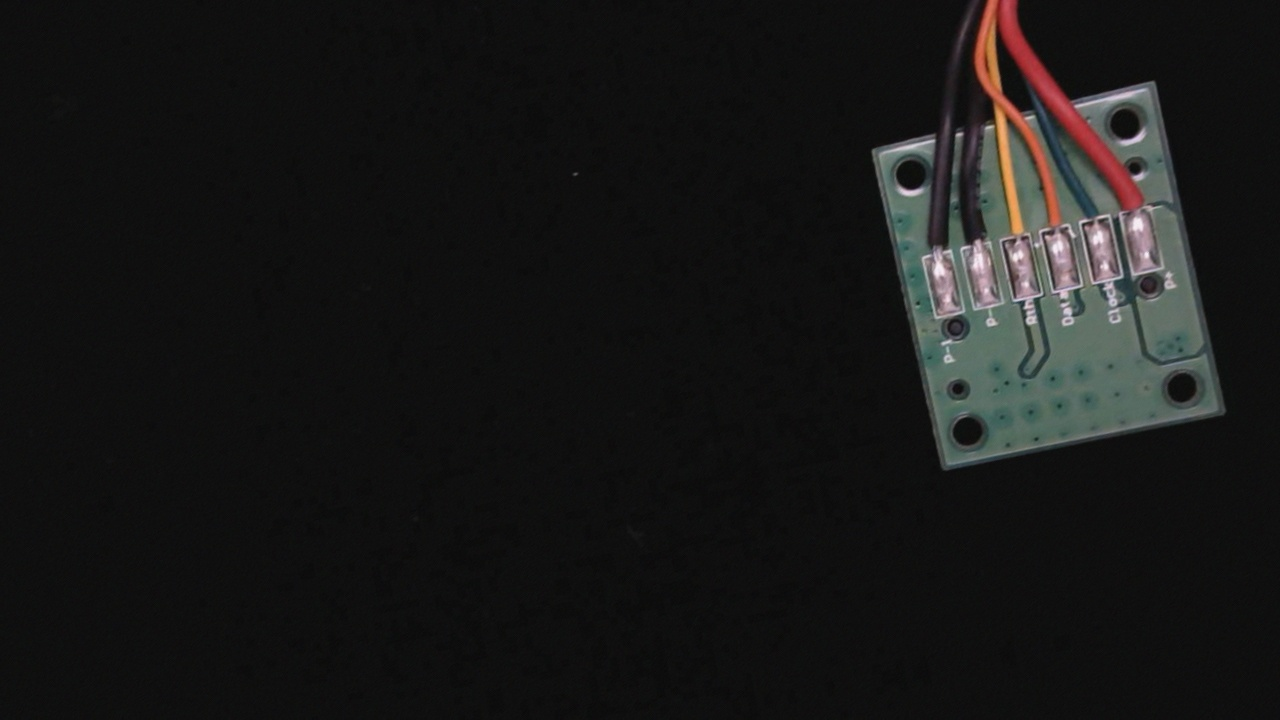Black: (953, 194, 996, 267)
Black1: (908, 204, 953, 276)
Green: (1068, 170, 1116, 242)
Orange: (1028, 172, 1075, 249)
Red: (1109, 158, 1157, 233)
Yellow: (990, 181, 1038, 261)
